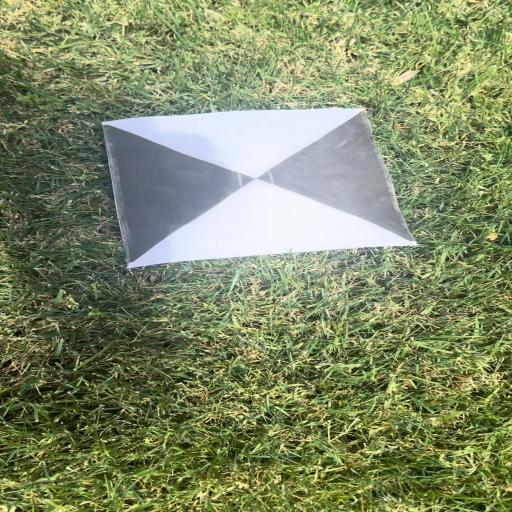target: (98, 109, 422, 267)
